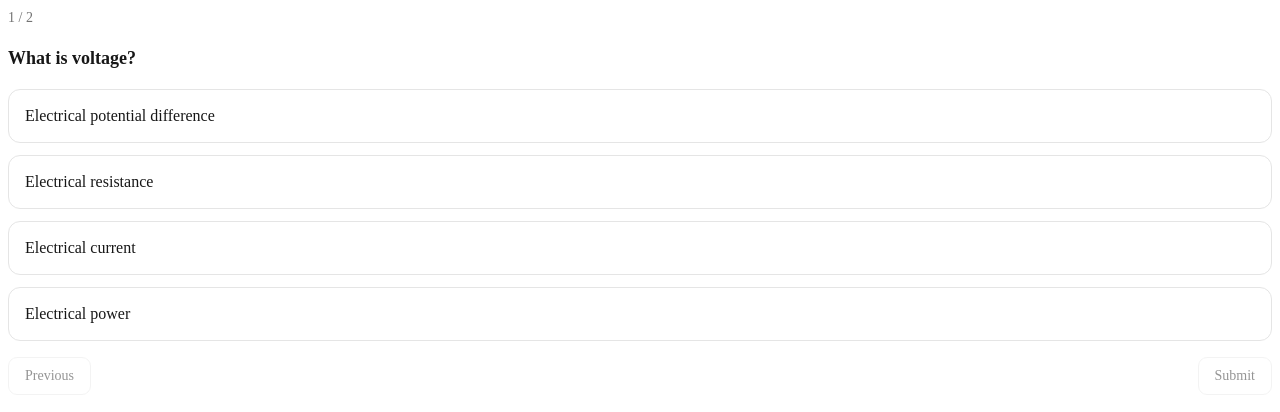
Test case: Quiz › disables submit until an option is selected
Expected: the button "Submit" is disabled, [1198,357,1272,395]
Click the button "Electrical potential difference": (120, 115) [8,89,1272,143]
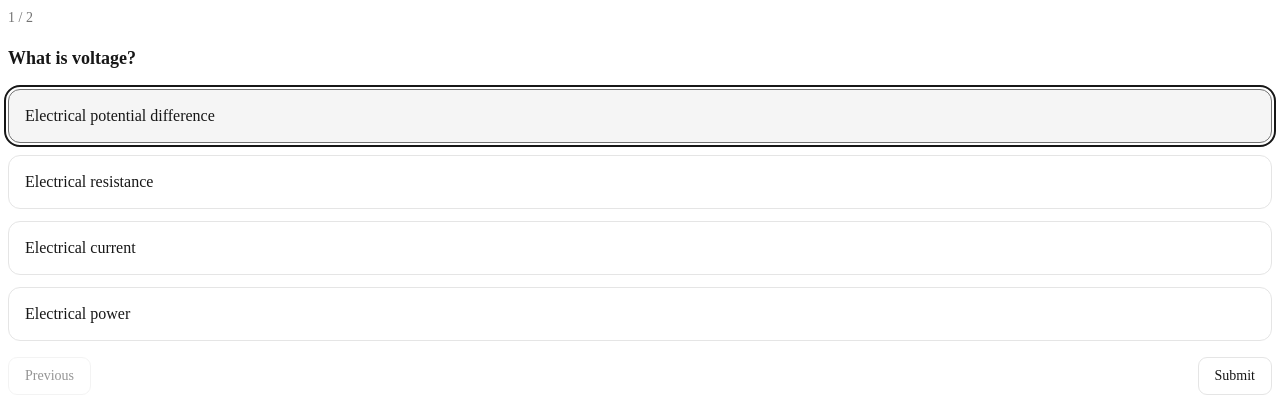
Expected: the button "Submit" is enabled, [1198,357,1272,395]
